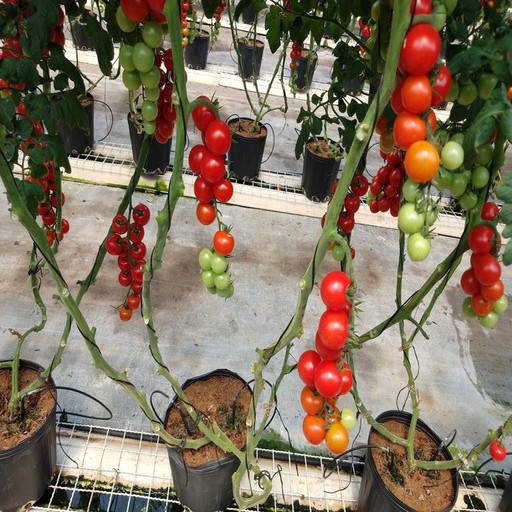green tomato bunch: (116, 5, 163, 137), (428, 120, 495, 207), (193, 247, 238, 300)
red tomato bunch: (299, 269, 369, 455), (379, 1, 451, 179), (189, 95, 236, 256), (461, 203, 512, 333), (106, 203, 157, 321), (1, 1, 64, 94), (320, 175, 368, 262), (25, 160, 69, 248), (149, 45, 187, 145), (368, 145, 407, 216), (1, 97, 47, 153)
